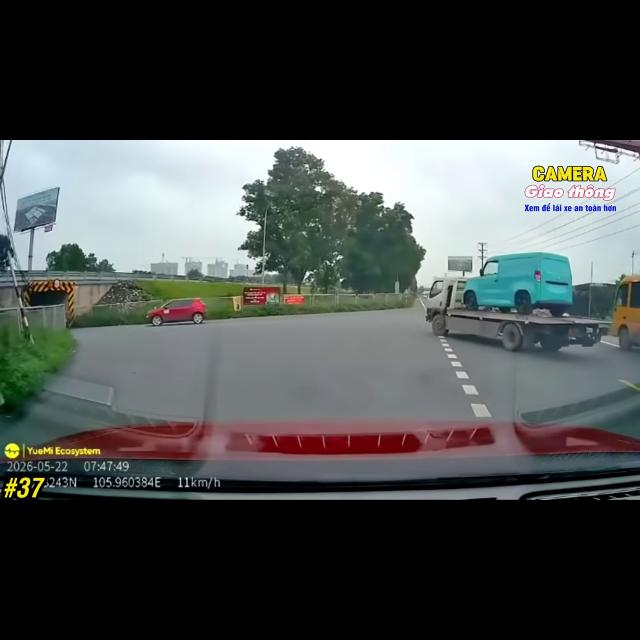bus: (616, 273, 640, 357)
car: (463, 252, 572, 316), (148, 298, 206, 325)
truck: (424, 277, 609, 351)
